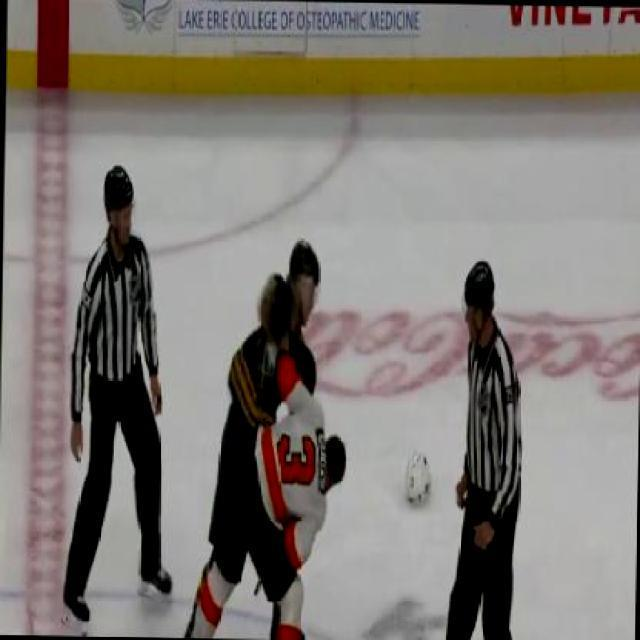fight: (204, 233, 350, 639)
non-fight: (64, 160, 181, 637), (444, 252, 526, 638)
